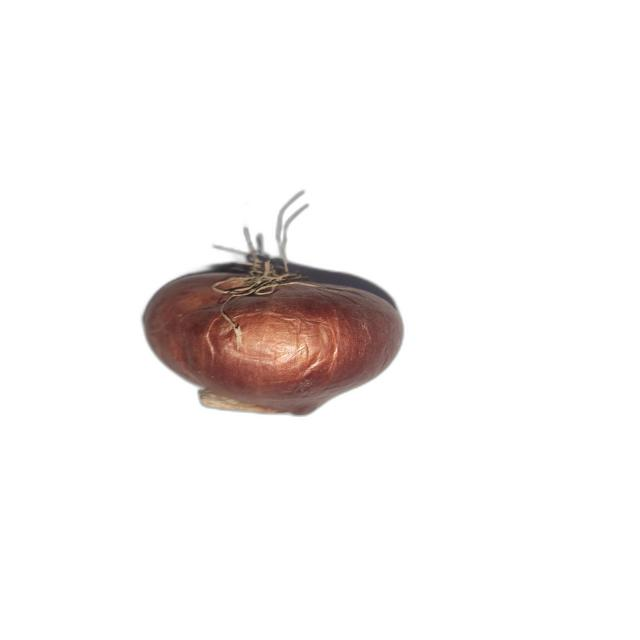onion: (141, 256, 406, 417)
